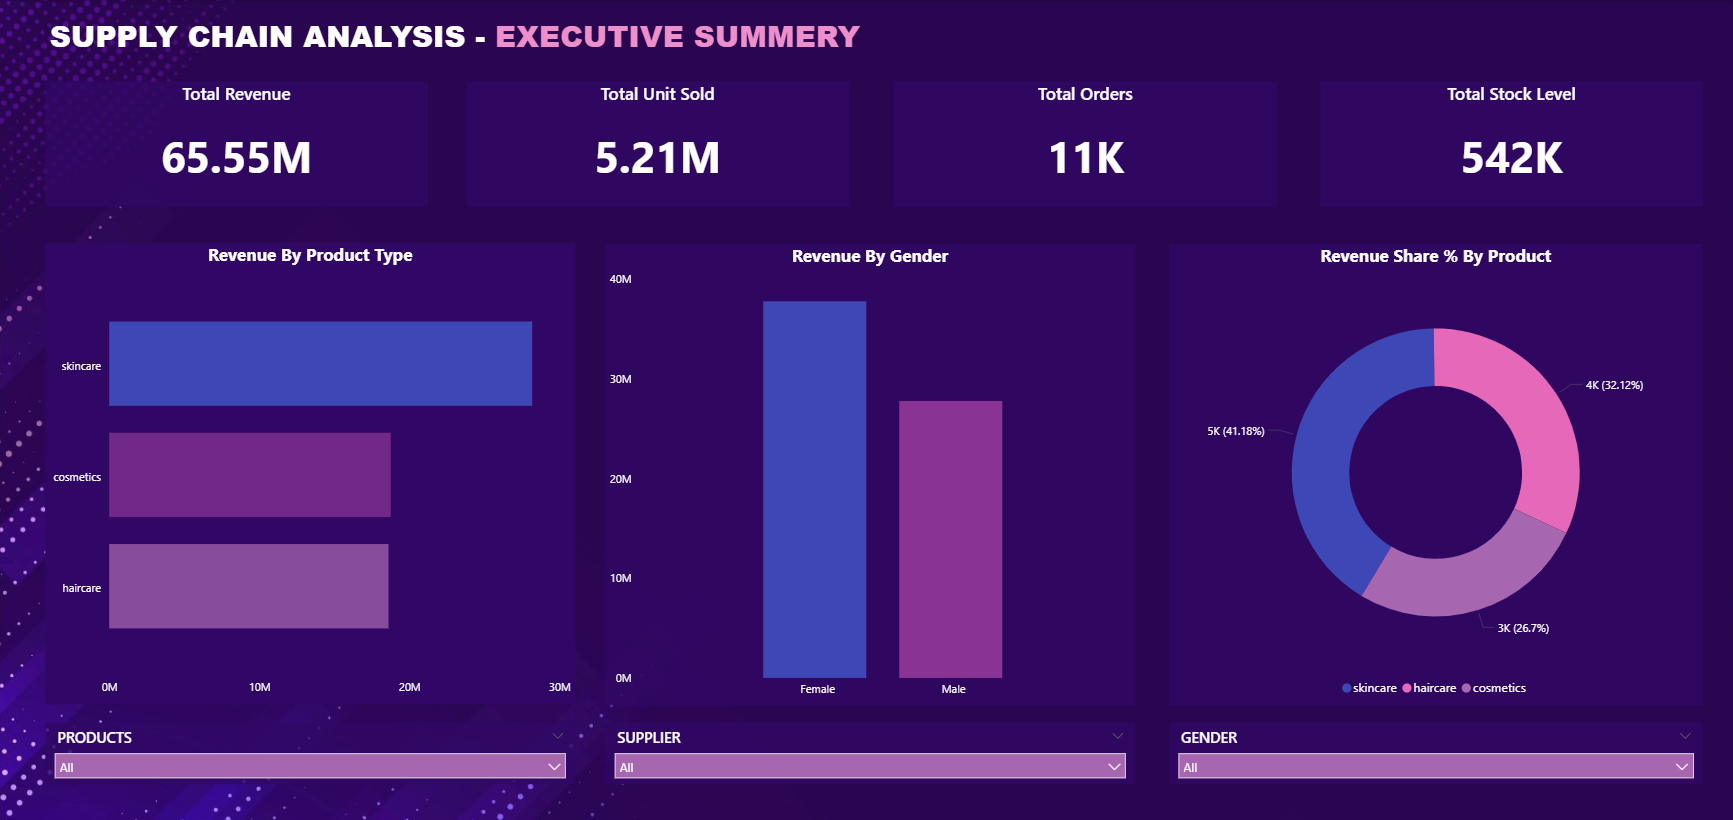

What the dashboard file says about the page in this screenshot:
{"tool":"powerbi","page":{"name":"Executive Summery","canvas":[1900,900],"ordinal":0},"visuals":[{"type":"textbox","box":[50,10.8,1850,59.5],"z":0},{"type":"card","title":"Total Revenue","fields":{"Values":["orders.Total Revenue"]},"box":[50,89.2,417.6,136.5],"z":1000},{"type":"card","title":"Total Orders","fields":{"Values":["orders.Total Orders"]},"box":[977,89.2,417.6,136.5],"z":2000},{"type":"card","title":"Total Unit Sold","fields":{"Values":["orders.Total Unit Sold"]},"box":[510.8,89.2,417.6,136.5],"z":3000},{"type":"card","title":"Total Stock Level","fields":{"Values":["Sum(inventory.STOCK_LEVELS)"]},"box":[1441.9,89.2,417.6,136.5],"z":4000},{"type":"barChart","title":"Revenue By Product Type","fields":{"Y":["Sum(orders.REVENUE)"],"Category":["products.PRODUCT_TYPE"]},"box":[50,264.9,578.4,504.1],"z":5000},{"type":"columnChart","title":"Revenue By Gender","fields":{"Y":["Sum(orders.REVENUE)"],"Category":["orders.CUSTOMER_GENDER"]},"box":[662.2,266.2,578.4,504.1],"z":6000},{"type":"donutChart","title":"Revenue Share % By Product","fields":{"Y":["orders.Revenue Share %"],"Category":["products.PRODUCT_TYPE"]},"box":[1277,266.2,582.4,504.1],"z":7000},{"type":"slicer","fields":{"Values":["products.PRODUCT_TYPE"]},"box":[50,787.8,578.4,67.6],"z":8000},{"type":"slicer","fields":{"Values":["suppliers.SUPPLIER_NAME"]},"box":[662.2,787.8,578.4,67.6],"z":9000},{"type":"slicer","fields":{"Values":["products.PRODUCT_TYPE","orders.CUSTOMER_GENDER"]},"box":[1277,787.8,582.4,67.6],"z":10000}]}

Visuals, with their boxes in screenshot pixels (x1, y1, x2, y2), scaled from the page's 1900x900 canvas onto the 1733x820 screenshot:
textbox: <bbox>46, 10, 1732, 64</bbox>
"Total Revenue" card: <bbox>46, 81, 427, 206</bbox>
"Total Orders" card: <bbox>891, 81, 1272, 206</bbox>
"Total Unit Sold" card: <bbox>466, 81, 847, 206</bbox>
"Total Stock Level" card: <bbox>1315, 81, 1696, 206</bbox>
"Revenue By Product Type" barChart: <bbox>46, 241, 573, 701</bbox>
"Revenue By Gender" columnChart: <bbox>604, 243, 1132, 702</bbox>
"Revenue Share % By Product" donutChart: <bbox>1165, 243, 1696, 702</bbox>
slicer - products.PRODUCT_TYPE: <bbox>46, 718, 573, 779</bbox>
slicer - suppliers.SUPPLIER_NAME: <bbox>604, 718, 1132, 779</bbox>
slicer - products.PRODUCT_TYPE x orders.CUSTOMER_GENDER: <bbox>1165, 718, 1696, 779</bbox>
